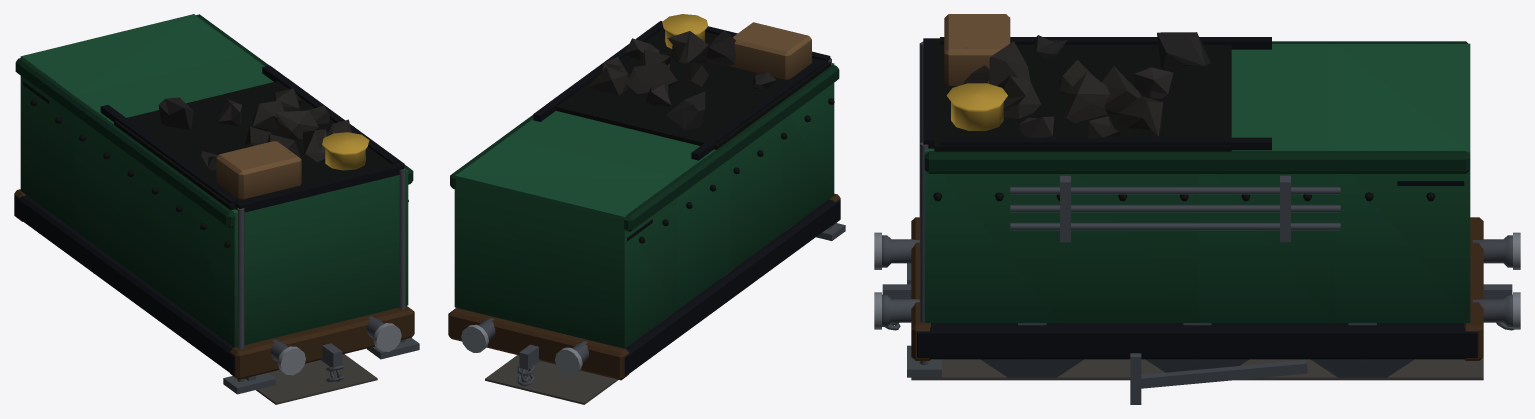
File: loco-tender.glb
3 views of the same model, side by side, from view 1: azimuth 30°, elevation 25°; view 2: azimuth 150°, elevation 25°; view 3: azimuth 270°, elevation 25° (orthographic). The views are drawn at different scales.
Parts seen in each view (by area): view 1: loco_tender; view 2: loco_tender; view 3: loco_tender.
Boxes of the visible parts, x1,y1,x2,y2 form: loco_tender: (14, 14, 419, 404); loco_tender: (448, 14, 845, 404); loco_tender: (874, 14, 1520, 404).
Bounding box in the file's own units: 1.28 × 1.49 × 2.93.
